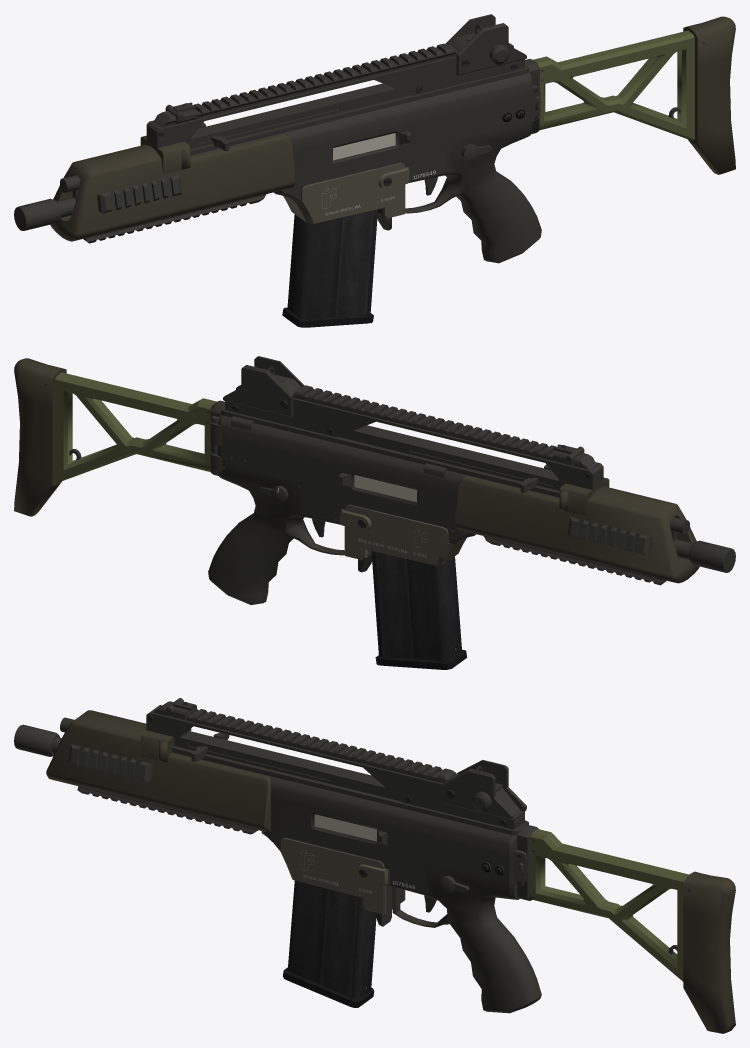
File: weapon_specialcarbine.glb
3 views of the same model, one above another, from view 1: azimuth 30°, elevation 25°; view 2: azimuth 150°, elevation 25°; view 3: azimuth 330°, elevation 25° (orthographic).
Visible parts, largest first — view 1: main_frame_specialcarbine, handguard_specialcarbine, stock_specialcarbine, magazine_specialcarbine, rear_sight_specialcarbine, barrel_specialcarbine; view 2: main_frame_specialcarbine, handguard_specialcarbine, stock_specialcarbine, magazine_specialcarbine, rear_sight_specialcarbine, barrel_specialcarbine; view 3: main_frame_specialcarbine, stock_specialcarbine, handguard_specialcarbine, magazine_specialcarbine, rear_sight_specialcarbine, barrel_specialcarbine.
Part boxes in pixels (bbox=[...]): main_frame_specialcarbine: bbox=[140, 43, 541, 263]; handguard_specialcarbine: bbox=[50, 133, 295, 243]; stock_specialcarbine: bbox=[533, 16, 735, 174]; magazine_specialcarbine: bbox=[282, 209, 377, 327]; rear_sight_specialcarbine: bbox=[445, 14, 526, 75]; barrel_specialcarbine: bbox=[14, 175, 80, 230]; main_frame_specialcarbine: bbox=[208, 385, 609, 604]; handguard_specialcarbine: bbox=[454, 475, 699, 585]; stock_specialcarbine: bbox=[14, 358, 216, 516]; magazine_specialcarbine: bbox=[371, 551, 466, 669]; rear_sight_specialcarbine: bbox=[223, 356, 304, 417]; barrel_specialcarbine: bbox=[669, 517, 735, 572]; main_frame_specialcarbine: bbox=[140, 701, 541, 1013]; stock_specialcarbine: bbox=[531, 829, 735, 1033]; handguard_specialcarbine: bbox=[46, 710, 270, 834]; magazine_specialcarbine: bbox=[283, 880, 376, 1007]; rear_sight_specialcarbine: bbox=[443, 760, 526, 820]; barrel_specialcarbine: bbox=[14, 717, 74, 756].
Size of the model in its own units: 88.94 by 31.53 by 7.81.
5 materials, 5 textured.
